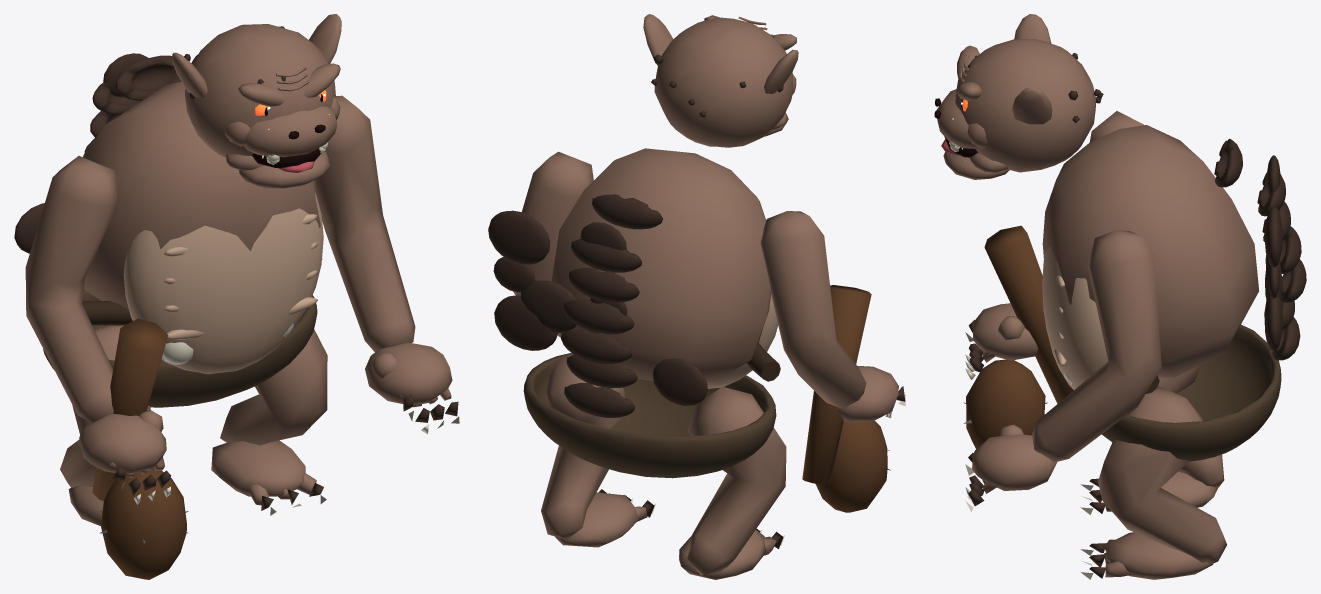
Rendered from kaempe_1.glb.
3 views of the same model, side by side, from view 1: azimuth 30°, elevation 25°; view 2: azimuth 150°, elevation 25°; view 3: azimuth 270°, elevation 25° (orthographic). The views are drawn at different scales.
Parts seen in each view (by area): view 1: krop_net, armH_net, hoved_net, armV_net, benV_net, benH_net; view 2: krop_net, armH_net, hoved_net, benH_net, benV_net, armV_net; view 3: krop_net, armV_net, hoved_net, benV_net, armH_net, benH_net.
Boxes of the visible parts, x1,y1,x2,y2 form: krop_net: [14, 53, 323, 407]; armH_net: [25, 156, 188, 579]; hoved_net: [172, 14, 341, 188]; armV_net: [315, 95, 459, 434]; benV_net: [211, 329, 327, 515]; benH_net: [60, 325, 150, 525]; krop_net: [488, 148, 780, 478]; armH_net: [760, 211, 905, 512]; hoved_net: [643, 14, 798, 147]; benH_net: [679, 386, 786, 579]; benV_net: [541, 354, 655, 547]; armV_net: [513, 151, 593, 339]; krop_net: [1042, 125, 1306, 461]; armV_net: [965, 230, 1161, 511]; hoved_net: [934, 14, 1103, 179]; benV_net: [1080, 386, 1226, 579]; armH_net: [963, 111, 1144, 448]; benH_net: [1080, 365, 1224, 514].
Size of the model in its own units: 2.29 by 3.2 by 2.19.
